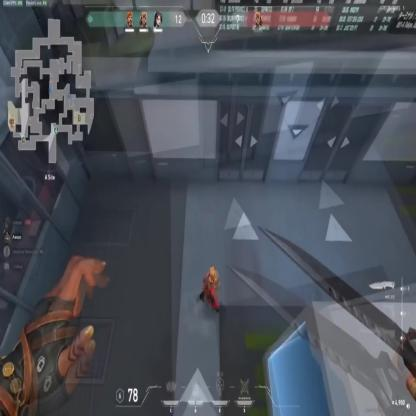enemy: (196, 264, 221, 318)
enemy_head: (209, 266, 214, 278)
